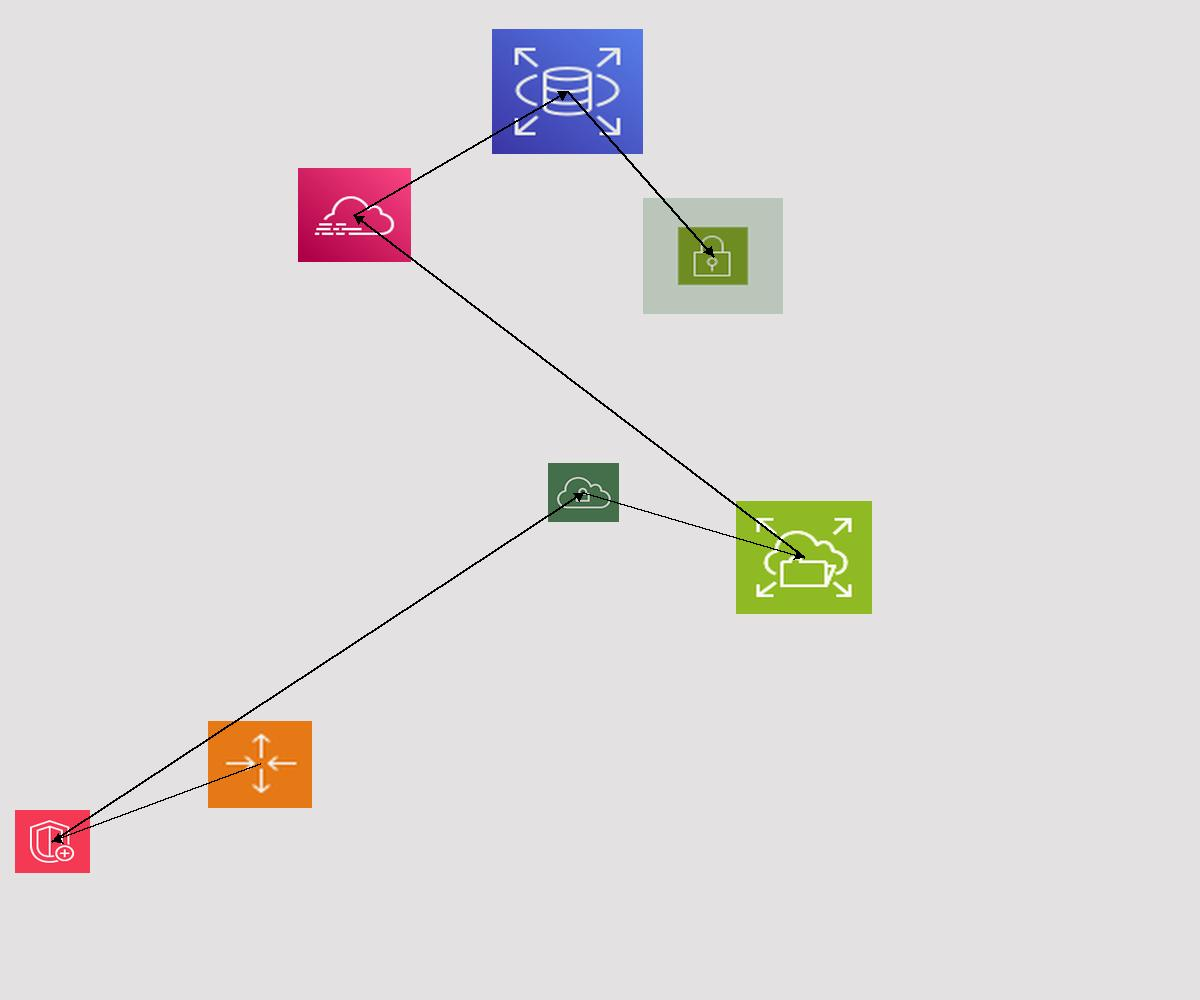AWS-CloudTrail: (298, 168, 411, 262)
AWS-EFS: (736, 501, 872, 614)
AWS-Private_vpc: (548, 463, 619, 522)
AWS-Public-subnet: (643, 198, 783, 314)
AWS-RDS: (492, 29, 643, 154)
AWS-Scaling-group: (208, 721, 312, 808)
AWS-Shield: (15, 810, 90, 873)
